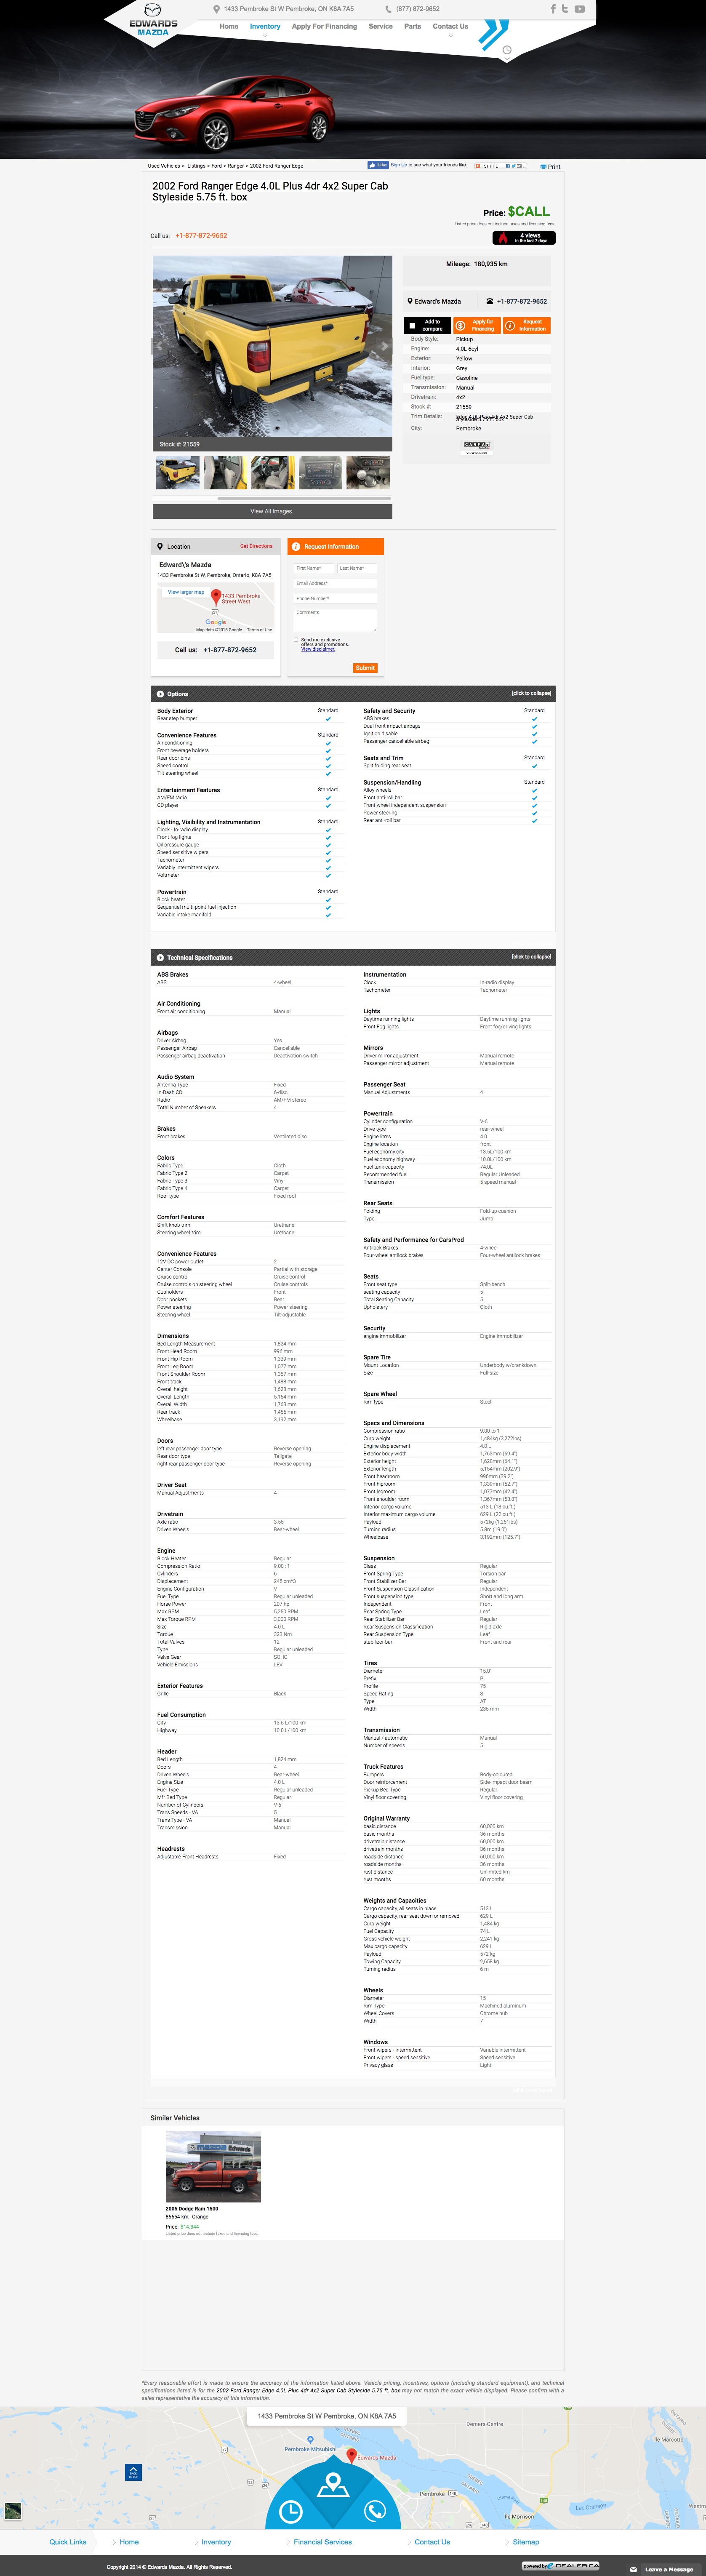car: (374, 337, 392, 356)
